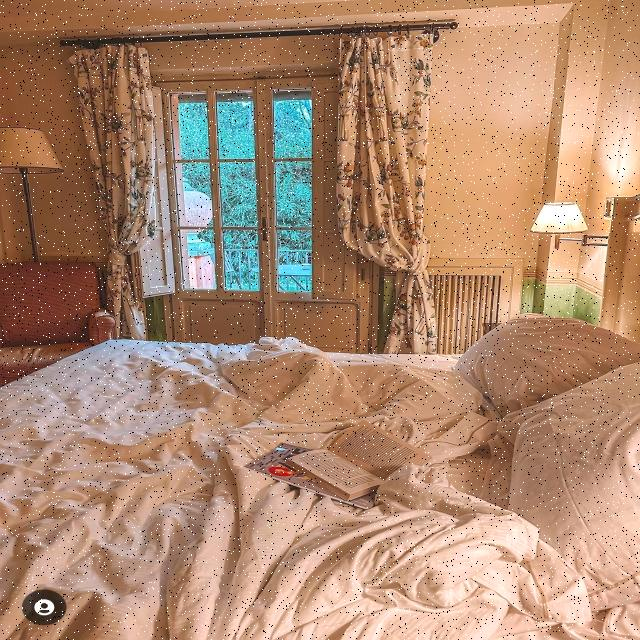bed: (19, 317, 640, 640)
